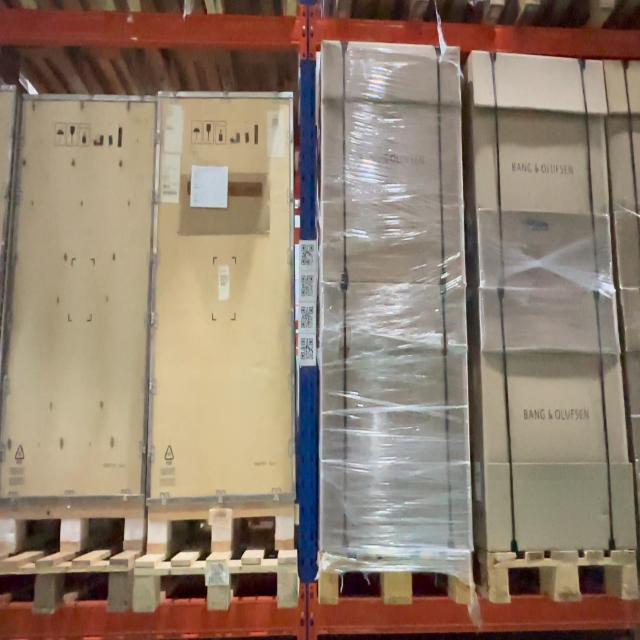box: (146, 91, 296, 502), (479, 288, 638, 553), (321, 282, 474, 552), (322, 41, 466, 288), (471, 51, 613, 292)
